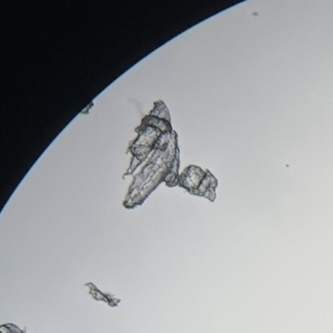microplastic: (122, 100, 219, 209), (85, 282, 121, 307), (1, 323, 28, 333), (79, 101, 94, 114)
